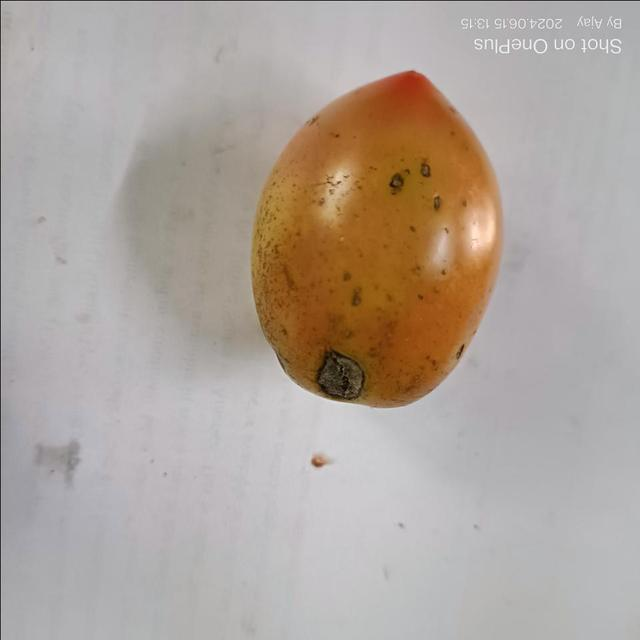Bacterial Spot Fruit: (14, 12, 283, 250)
